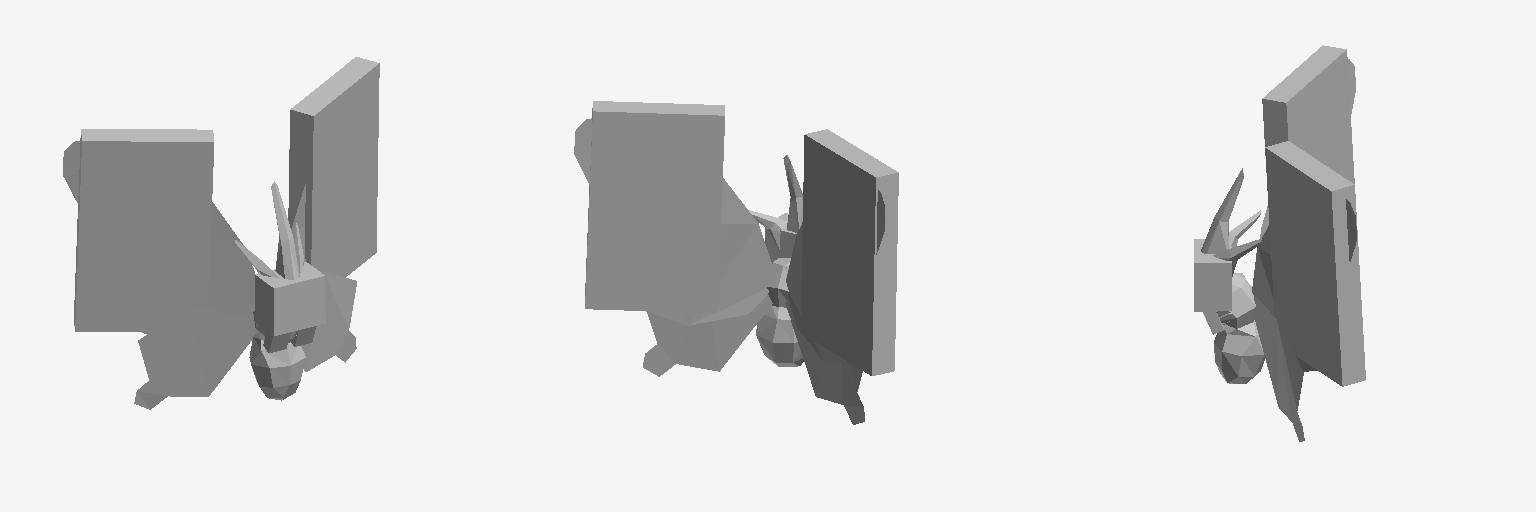
The picture shows the model from 3 angles: view 1: azimuth 30°, elevation 25°; view 2: azimuth 150°, elevation 25°; view 3: azimuth 270°, elevation 25°; orthographic projection.
Parts seen in each view (by area): view 1: col_rhandShape_0, model_5_col_collmesh, col_lhandShape_0, col_faceShape_0; view 2: col_lhandShape_0, model_5_col_collmesh, col_rhandShape_0, col_faceShape_0; view 3: col_lhandShape_0, model_5_col_collmesh, col_rhandShape_0, col_faceShape_0.
Boxes of the visible parts, <box> form: col_rhandShape_0: <box>74,129,213,332</box>; model_5_col_collmesh: <box>63,141,356,409</box>; col_lhandShape_0: <box>288,57,379,277</box>; col_faceShape_0: <box>255,262,325,335</box>; col_lhandShape_0: <box>585,101,724,313</box>; model_5_col_collmesh: <box>574,118,884,424</box>; col_rhandShape_0: <box>800,129,898,375</box>; col_faceShape_0: <box>765,213,796,263</box>; col_lhandShape_0: <box>1265,141,1365,386</box>; model_5_col_collmesh: <box>1201,59,1356,441</box>; col_rhandShape_0: <box>1262,45,1354,183</box>; col_faceShape_0: <box>1194,239,1231,311</box>.
Bounding box in the file's own units: 17.12 × 14.59 × 8.22.